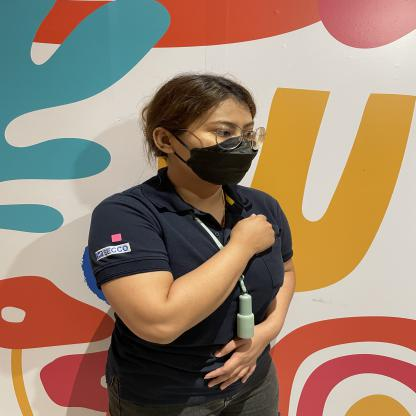Sadness: (84, 207, 312, 342)
